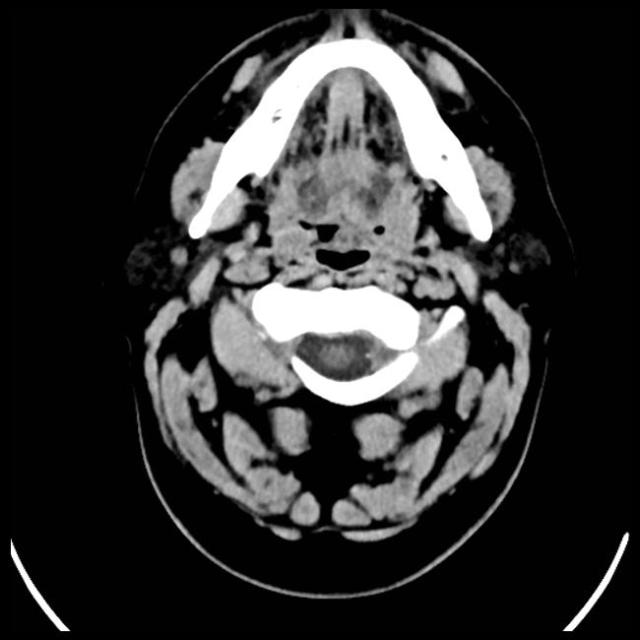lesion: (127, 19, 554, 553)
